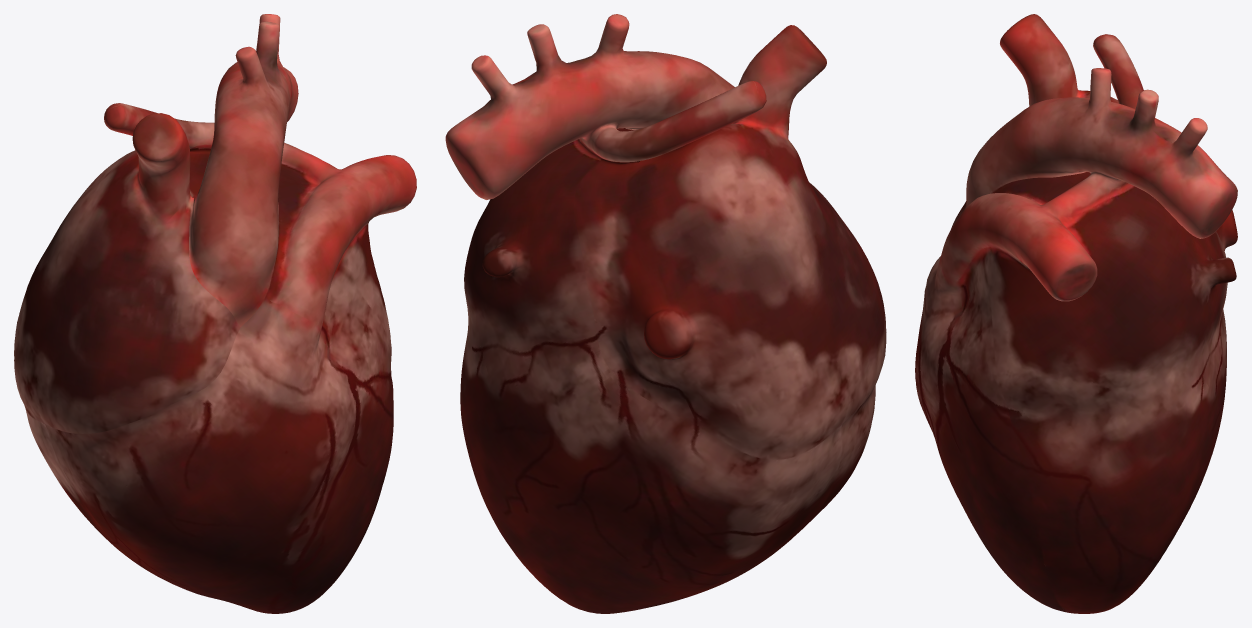
The model's file is HumanHeart.glb.
The picture shows the model from 3 angles, left to right: view 1: azimuth 30°, elevation 25°; view 2: azimuth 150°, elevation 25°; view 3: azimuth 270°, elevation 25°; orthographic projection. The views are drawn at different scales.
Parts seen in each view (by area): view 1: hart:ZBrush_defualt_group_Heart Tex_0; view 2: hart:ZBrush_defualt_group_Heart Tex_0; view 3: hart:ZBrush_defualt_group_Heart Tex_0.
Part boxes in pixels (x1=…): hart:ZBrush_defualt_group_Heart Tex_0: x1=14, y1=14, x2=416, y2=613; hart:ZBrush_defualt_group_Heart Tex_0: x1=445, y1=14, x2=886, y2=613; hart:ZBrush_defualt_group_Heart Tex_0: x1=915, y1=14, x2=1237, y2=613.
Size of the model in its own units: 1.08 by 1.6 by 0.8801.
Materials: 1 (1 with a texture image).
